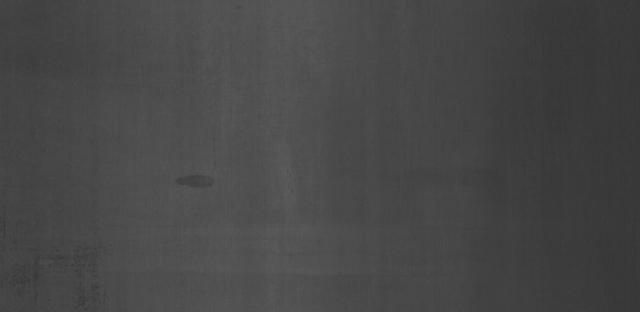oil_spot: (175, 167, 226, 192)
